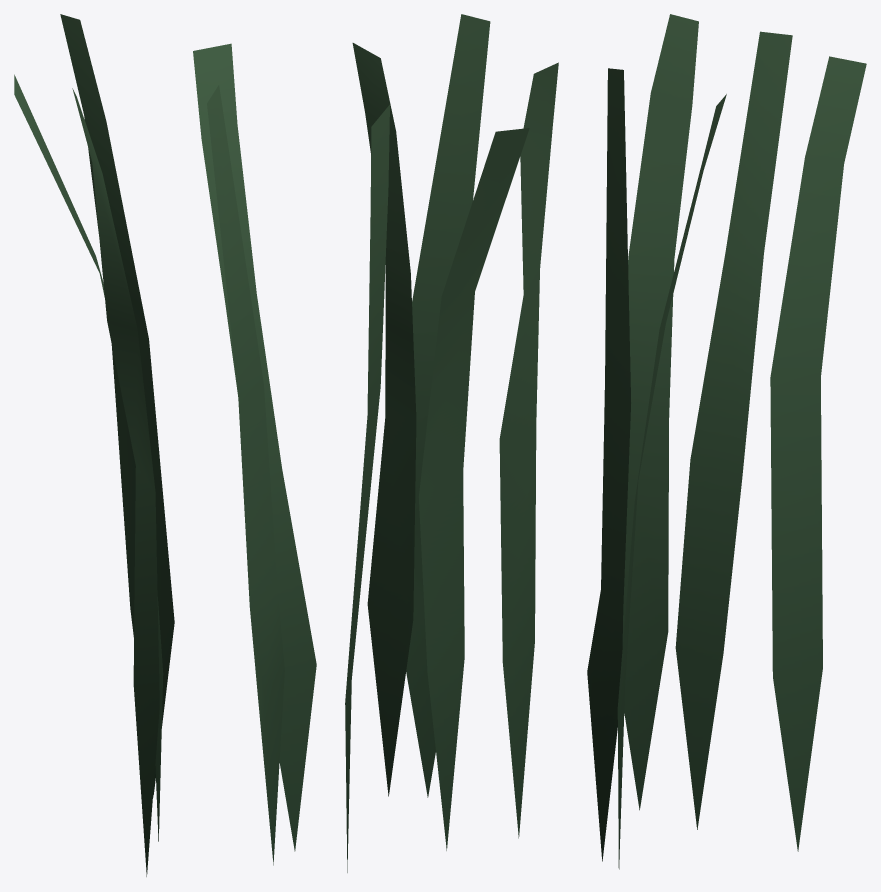
File: trees-grasses-tall-grass_v1.glb
3 views of the same model, side by side, from view 1: azimuth 30°, elevation 25°; view 2: azimuth 150°, elevation 25°; view 3: azimuth 270°, elevation 25° (orthographic). The views are drawn at different scales.
Visible parts, largest first — view 1: Tall Grass_v1; view 2: Tall Grass_v1; view 3: Tall Grass_v1.
Boxes of the visible parts, x1,y1,x2,y2 form: Tall Grass_v1: [14, 14, 316, 876]; Tall Grass_v1: [345, 14, 558, 872]; Tall Grass_v1: [587, 14, 866, 869].
Size of the model in its own units: 0.1537 by 0.5 by 0.164.
